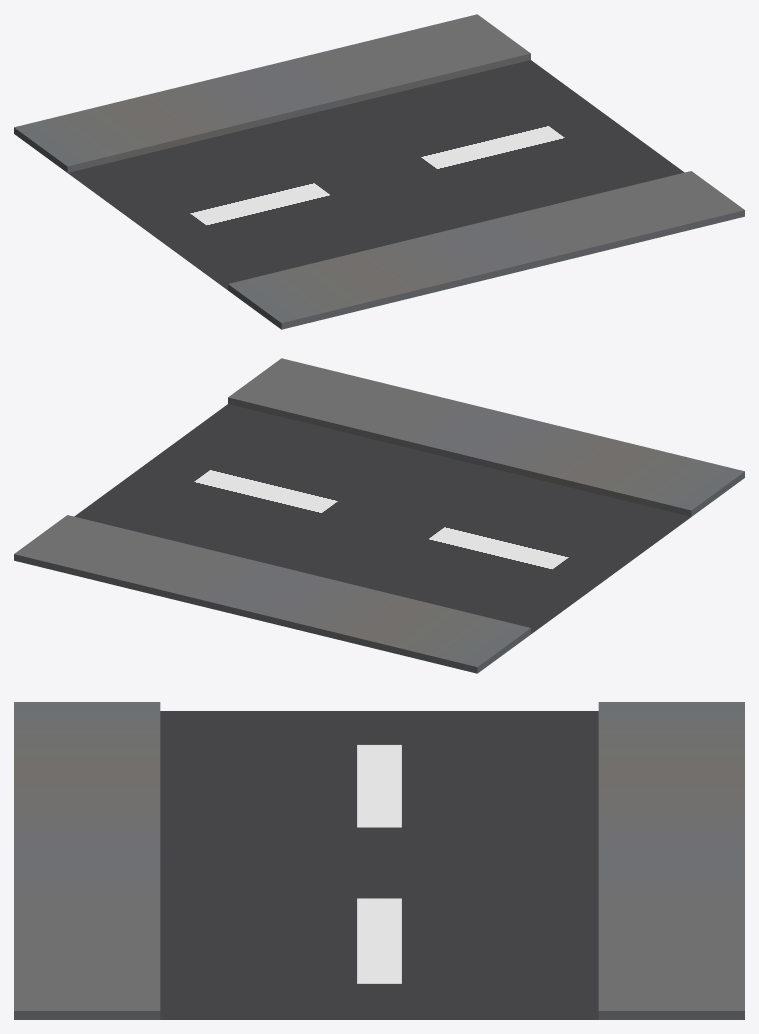
File: Straight.fbx
3 views of the same model, one above another, from view 1: azimuth 30°, elevation 25°; view 2: azimuth 150°, elevation 25°; view 3: azimuth 270°, elevation 25° (orthographic). The views are drawn at different scales.
Visible parts, largest first — view 1: Straight; view 2: Straight; view 3: Straight.
Boxes of the visible parts, bbox=[...] form: Straight: bbox=[14, 14, 744, 329]; Straight: bbox=[14, 358, 744, 673]; Straight: bbox=[14, 702, 744, 1019].
Bounding box in the file's own units: 1000 × 13.49 × 1000.
